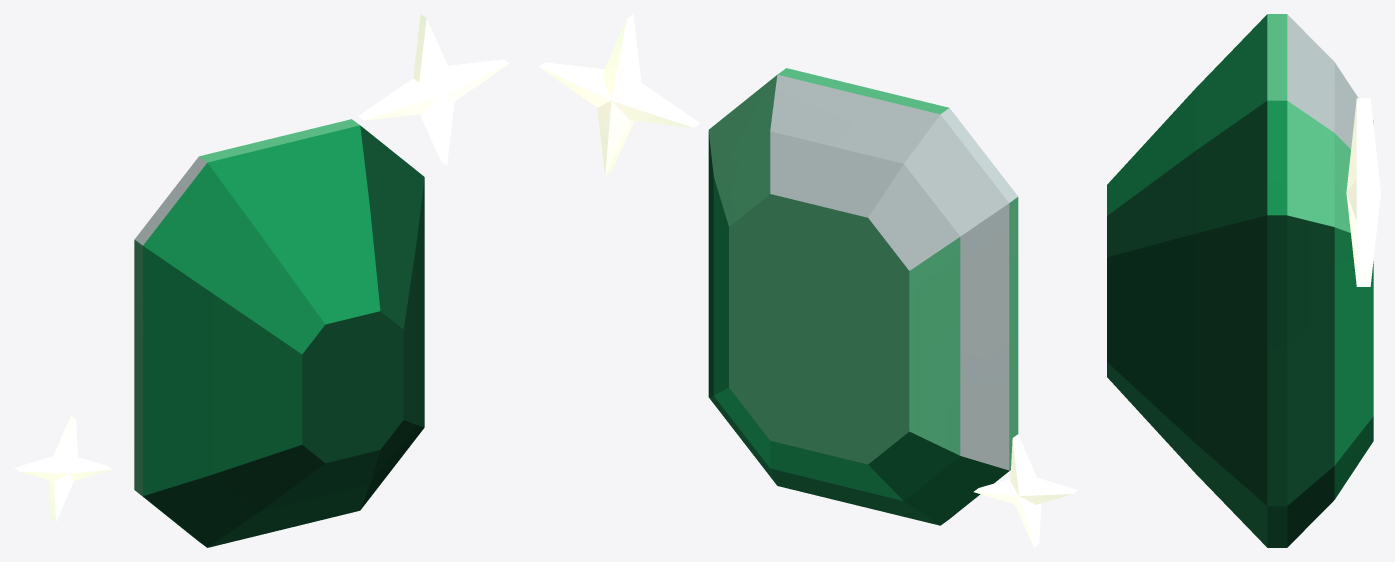
Rendered from gem_emerald.glb.
3 renders of one model, left to right at view 1: azimuth 30°, elevation 25°; view 2: azimuth 150°, elevation 25°; view 3: azimuth 270°, elevation 25°, orthographic. The views are drawn at different scales.
Bounding box in the file's own units: 0.269 × 0.2276 × 0.111.
